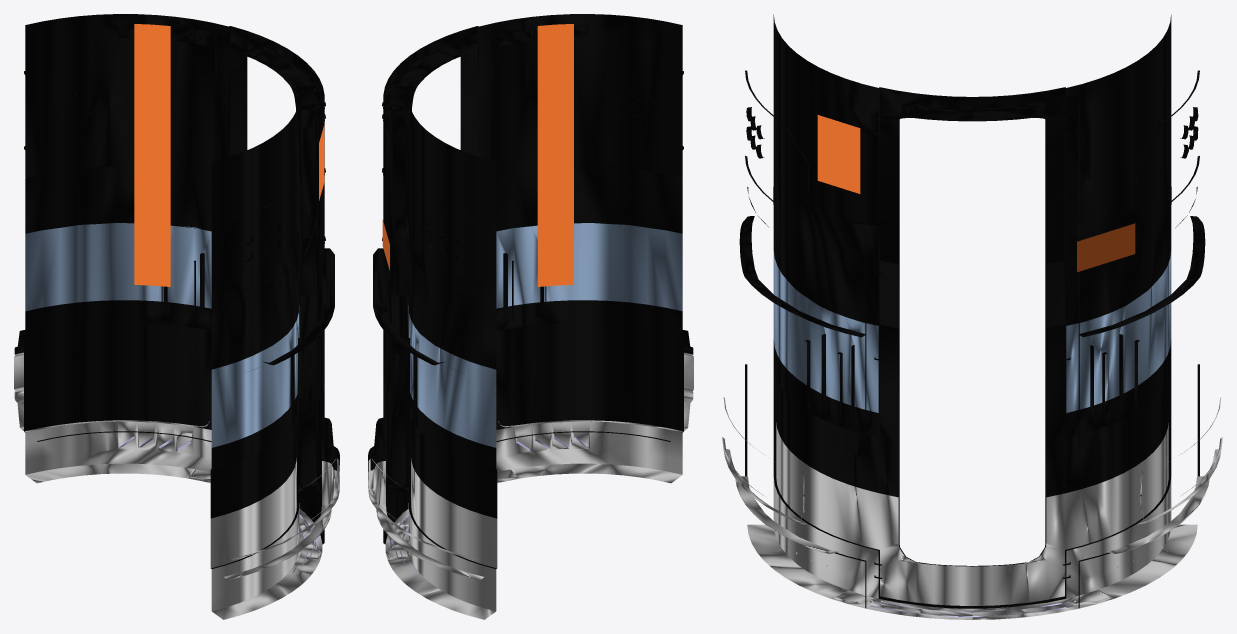
Rendered from hangar_business_v2_elevator_shaft_main_01.glb.
3 renders of one model, left to right at view 1: azimuth 30°, elevation 25°; view 2: azimuth 150°, elevation 25°; view 3: azimuth 270°, elevation 25°, orthographic. The views are drawn at different scales.
Bounding box in the file's own units: 3 × 7.43 × 6.59.
